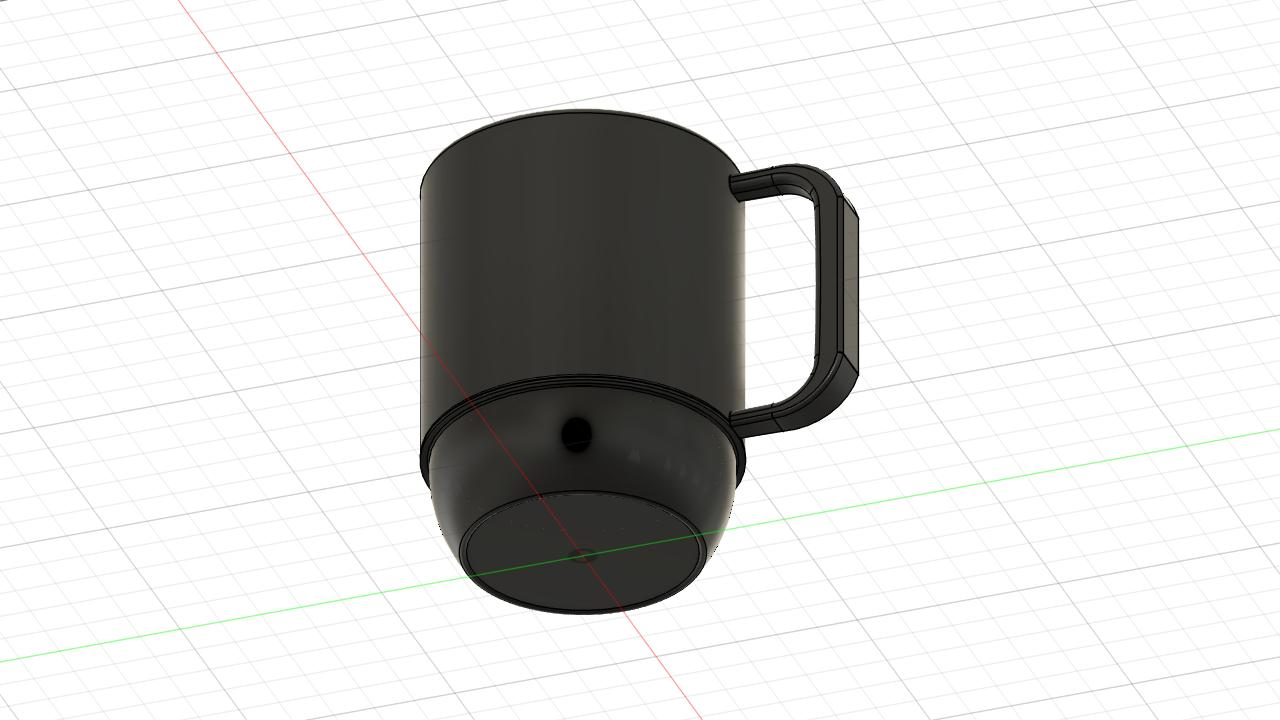mug-real100-3d100: (420, 111, 858, 614)
